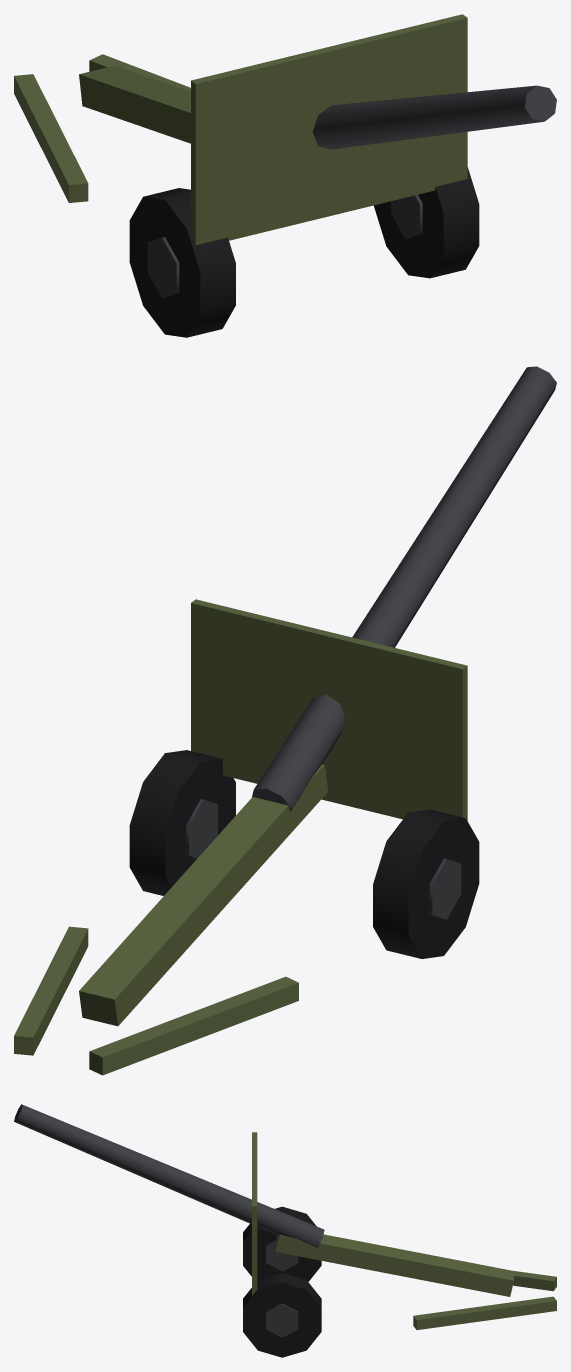
Rendered from unit_mil_gun_a06.glb.
3 renders of one model, top to bottom at view 1: azimuth 30°, elevation 25°; view 2: azimuth 150°, elevation 25°; view 3: azimuth 270°, elevation 25°, orthographic. The views are drawn at different scales.
Visible parts, largest first — view 1: body, wheel_0, barrel, wheel_1; view 2: body, barrel, wheel_0, wheel_1; view 3: body, barrel, wheel_1, wheel_0.
Boxes of the visible parts, <box> form: body: <box>14,14,467,244</box>; wheel_0: <box>129,188,235,337</box>; barrel: <box>312,85,556,149</box>; wheel_1: <box>373,167,479,278</box>; body: <box>14,599,467,1075</box>; barrel: <box>252,366,556,811</box>; wheel_0: <box>373,809,479,958</box>; wheel_1: <box>129,750,235,895</box>; body: <box>252,1132,556,1329</box>; barrel: <box>14,1104,324,1247</box>; wheel_1: <box>243,1273,321,1357</box>; wheel_0: <box>243,1206,321,1281</box>.
Size of what is drawn, in the model's own units: 1.99 by 2.57 by 5.89.
